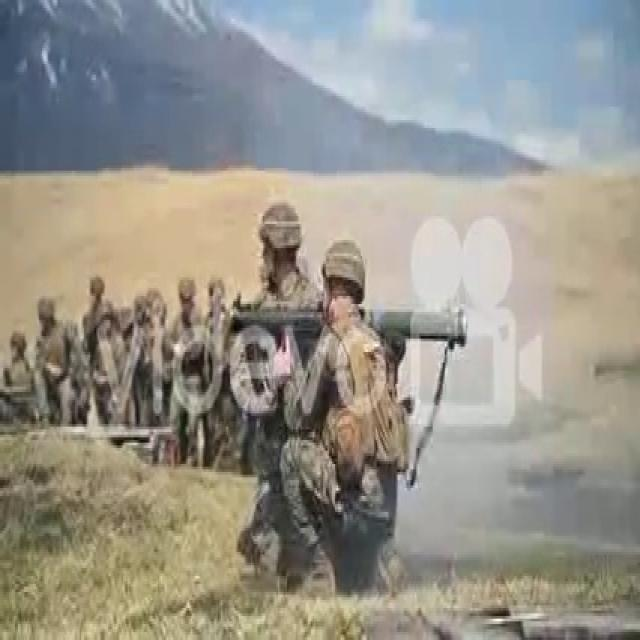bazooka: (224, 290, 476, 357)
